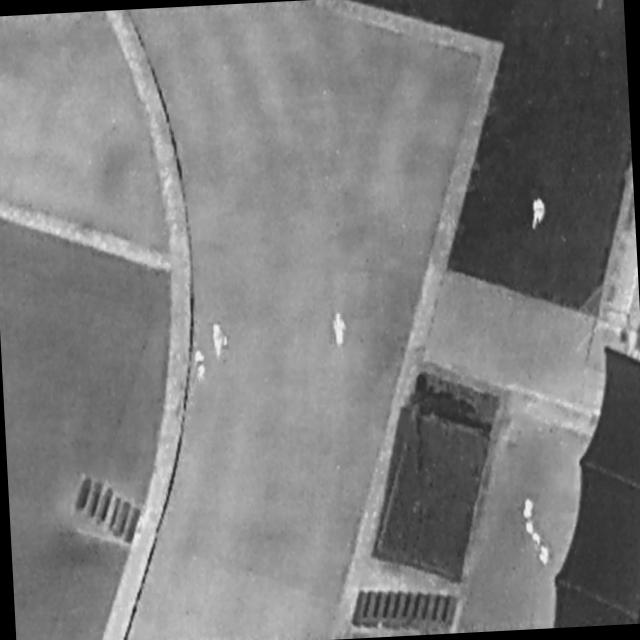person: (528, 193, 551, 234), (211, 321, 230, 362), (333, 310, 350, 351), (193, 350, 208, 385)
